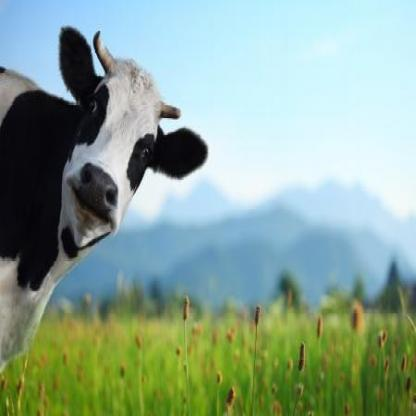cow: (0, 27, 207, 372)
